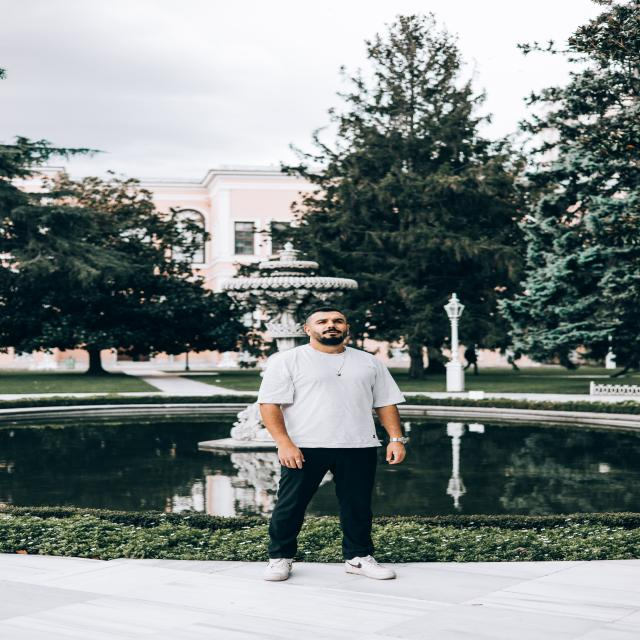standing: (249, 307, 413, 583)
